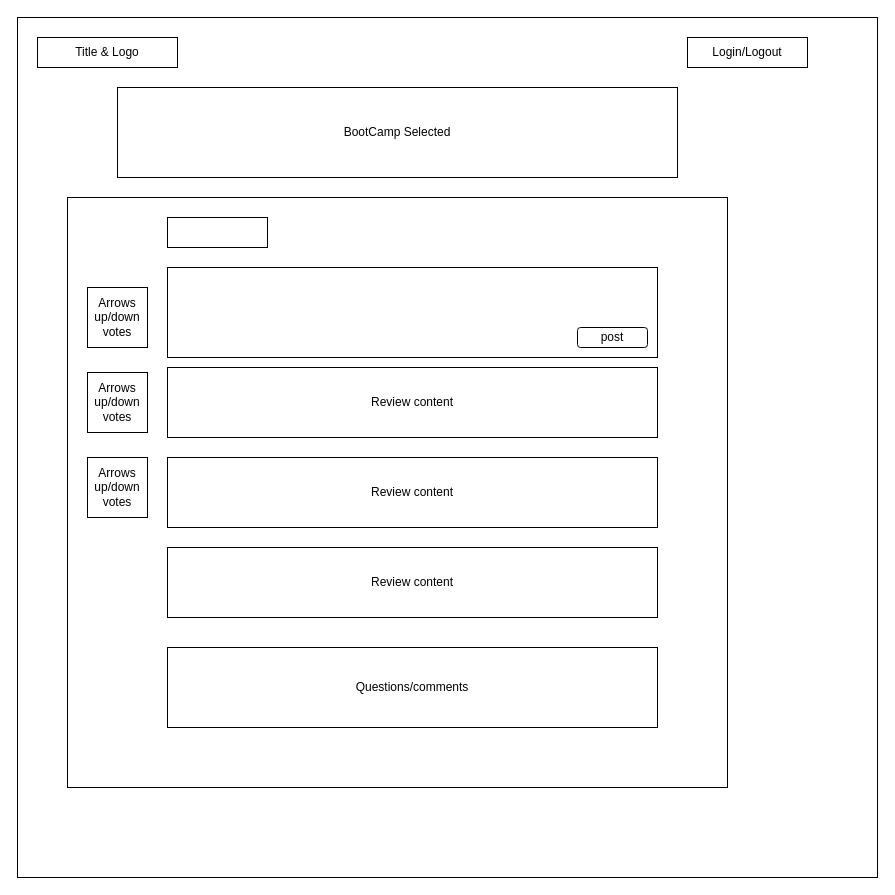
Image size: 895x895. Some labels were removed from this diagram. Here are the shapes that lost their labels. From the top down, the box of each, then its label:
(166, 216, 268, 248): Write Review
(166, 266, 658, 358): Write a review...
